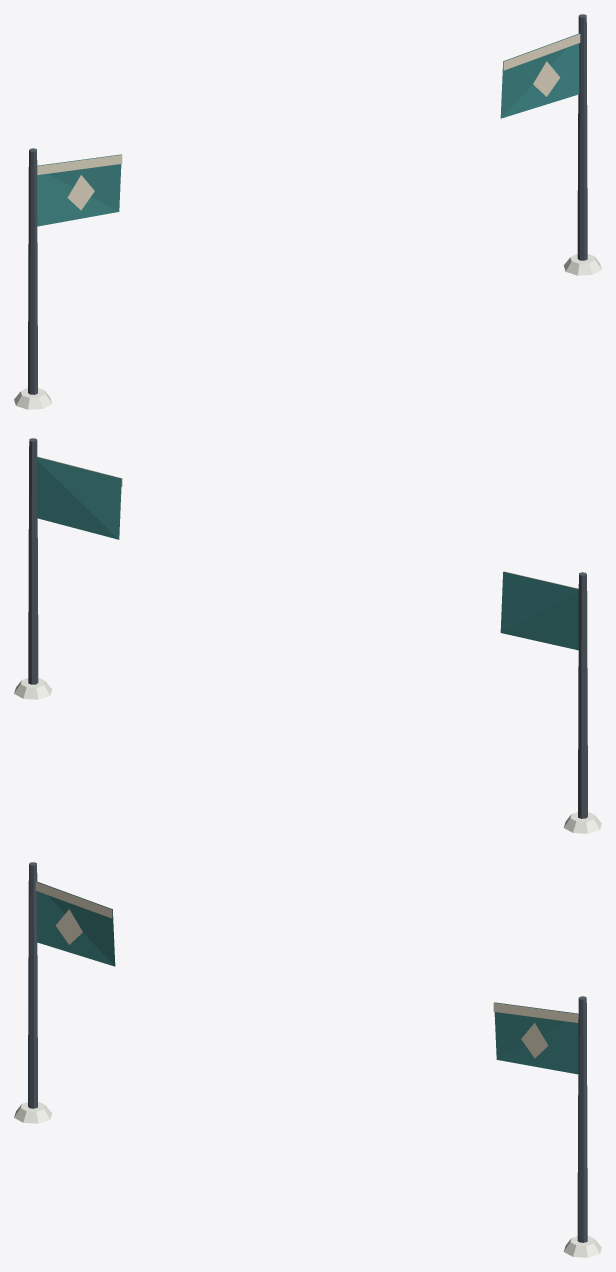
Rendered from gate-teal.glb.
The picture shows the model from 3 angles, top to bottom: view 1: azimuth 30°, elevation 25°; view 2: azimuth 150°, elevation 25°; view 3: azimuth 330°, elevation 25°; orthographic projection.
Visible parts, largest first — view 1: gate-teal; view 2: gate-teal; view 3: gate-teal.
Part boxes in pixels (x1,y1,x2,y2): gate-teal: (14, 14, 601, 409); gate-teal: (14, 438, 601, 833); gate-teal: (14, 862, 601, 1257).
Bounding box in the file's own units: 6.8 × 2.8 × 0.4.
